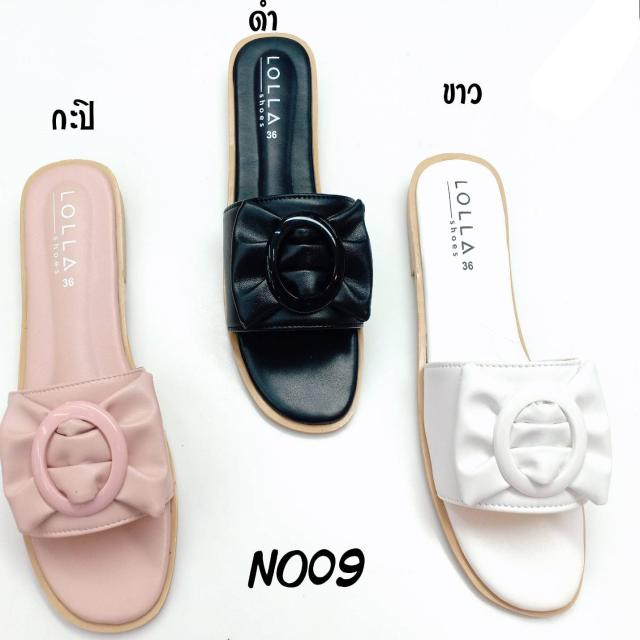black: (226, 42, 360, 424)
kapi: (20, 157, 175, 626)
white: (413, 147, 584, 610)
